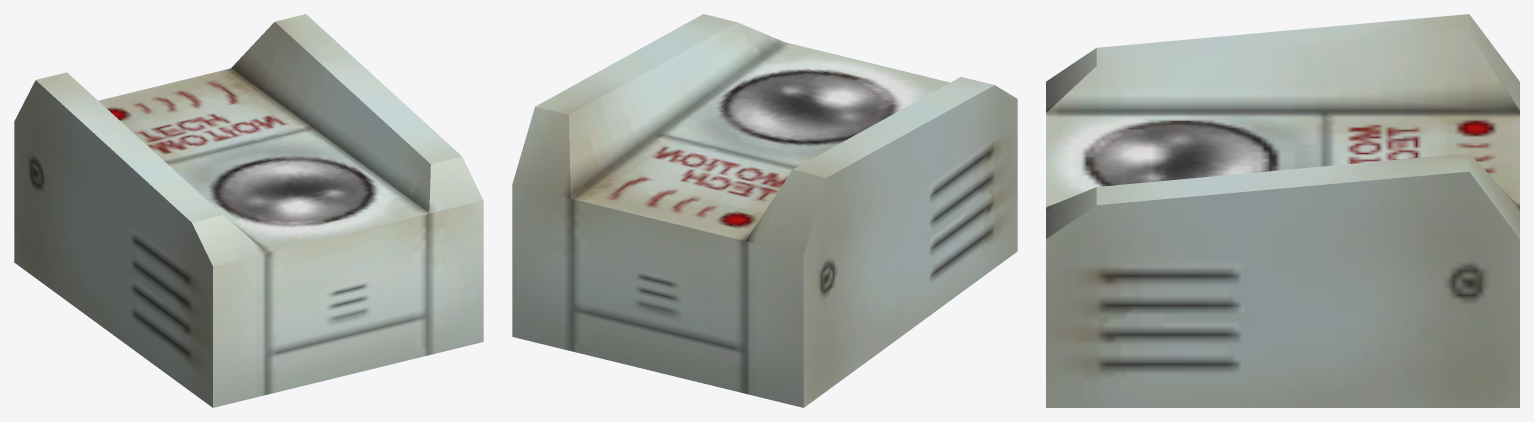
Rendered from motion_sensor.fbx.
The picture shows the model from 3 angles, left to right: view 1: azimuth 30°, elevation 25°; view 2: azimuth 150°, elevation 25°; view 3: azimuth 270°, elevation 25°; orthographic projection. The views are drawn at different scales.
Visible parts, largest first — view 1: mesh_0; view 2: mesh_0; view 3: mesh_0.
Part boxes in pixels (left/top/right/bottom): mesh_0: left=14, top=14, right=483, bottom=407; mesh_0: left=512, top=14, right=1017, bottom=407; mesh_0: left=1046, top=14, right=1519, bottom=407.
Size of the model in its own units: 15.12 by 10.58 by 19.21.
1 material, 1 textured.
